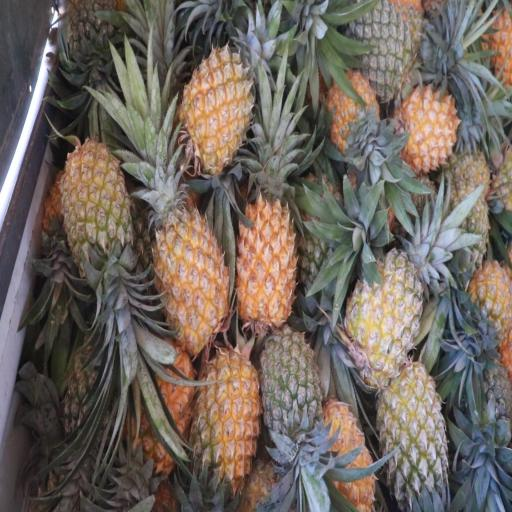------------------------------: (346, 253, 420, 383), (380, 370, 445, 508)
Pineapple - v8 v1: (153, 180, 229, 348), (62, 143, 129, 286), (181, 46, 255, 171), (196, 346, 262, 485), (234, 185, 295, 332), (134, 349, 196, 470), (323, 404, 377, 510), (327, 74, 384, 161), (401, 86, 459, 171), (466, 260, 511, 354)
